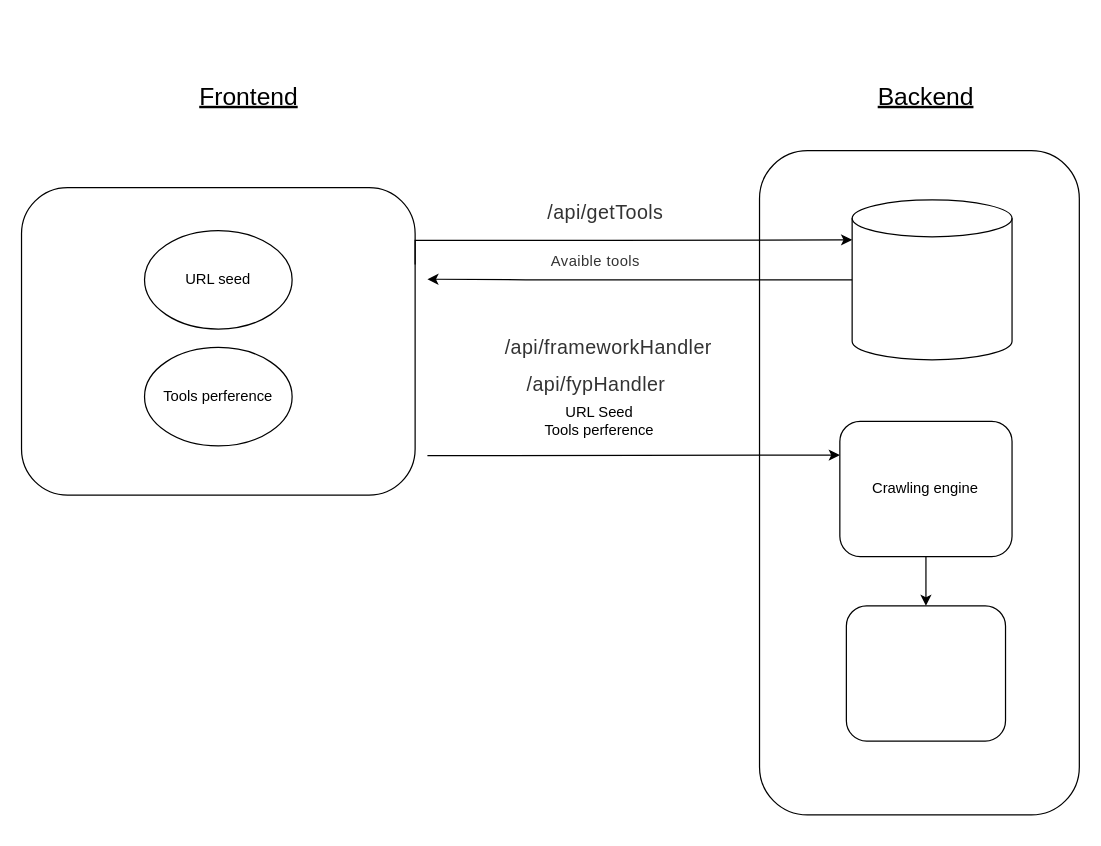
The diagram is 1101 pixels wide and 846 high, and some of its shapes have lost their labels. Each missing label, with the centre of its shape:
"MySQL Database" goes at point (931, 279).
"Scanning engine" goes at point (925, 673).
